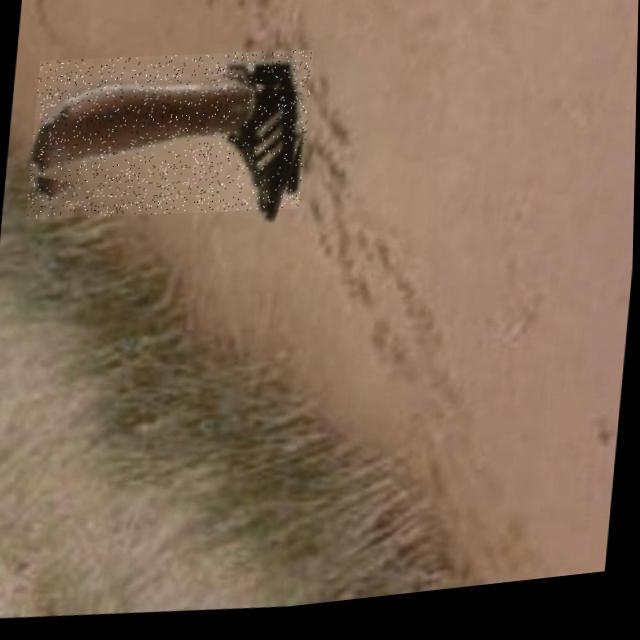Person in Rubble: (26, 36, 314, 238)
